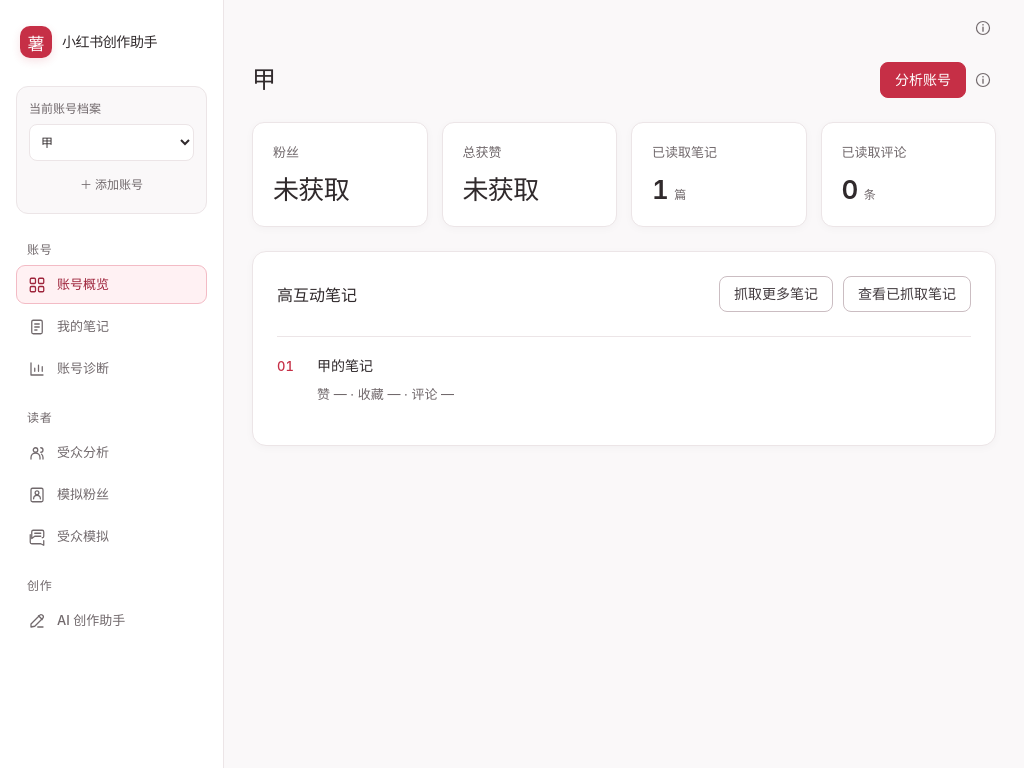
Test: diagnosis history on the public diagnosis page › keeps old history separate when the current execution fails
Check: the text "甲的笔记" is shown, box 317,357 -> 373,374
Click the button "账号诊断" at (112, 368), box 16,349 -> 207,388
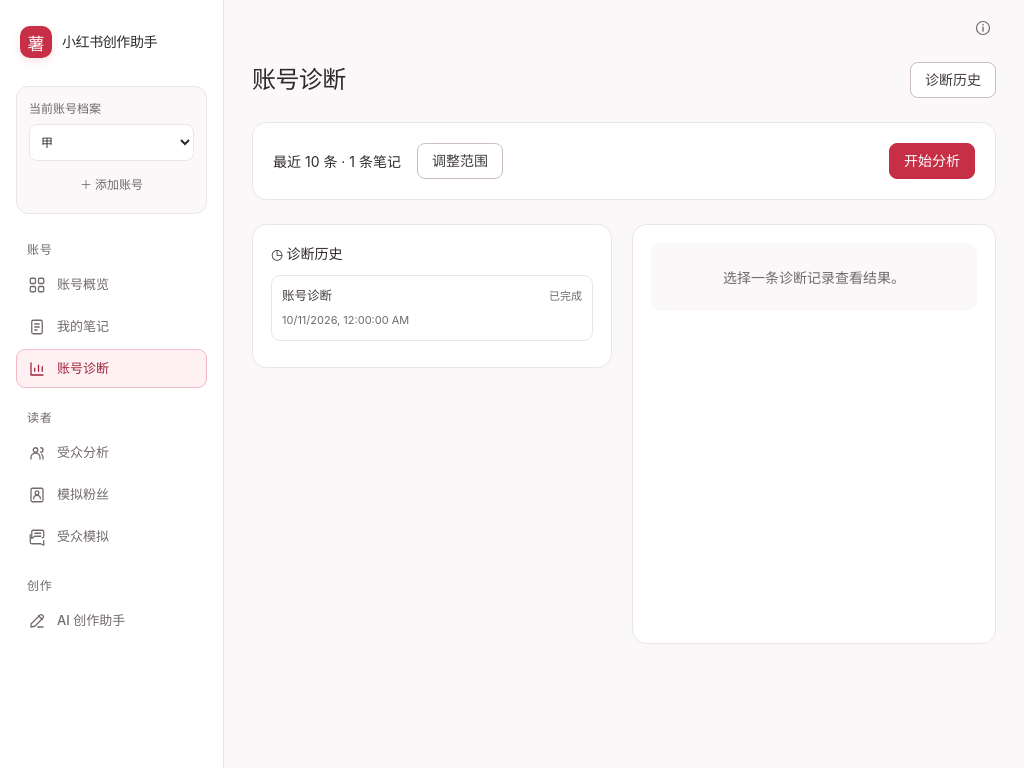
Click the button "账号诊断 已完成 10/11/2026, 12:00:00 AM" at (307, 296), box 271,275 -> 593,341
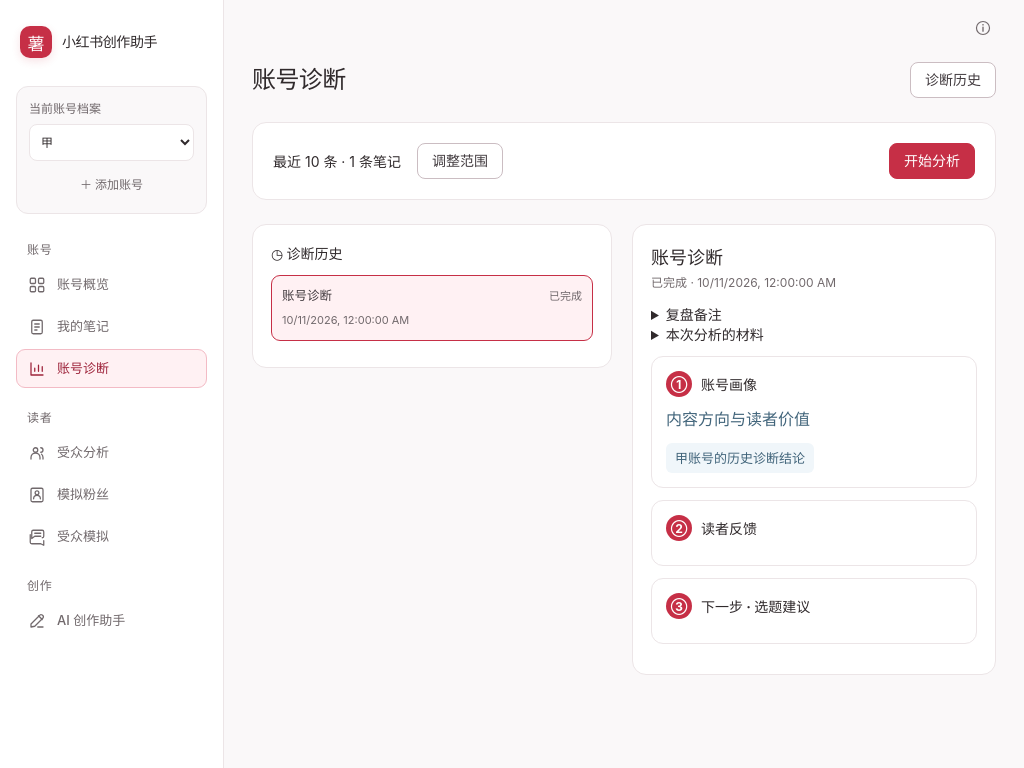
Check: the text "甲账号的历史诊断结论" is shown, box 666,443 -> 814,473
Click the button "开始分析" at (932, 161), box 889,143 -> 975,179
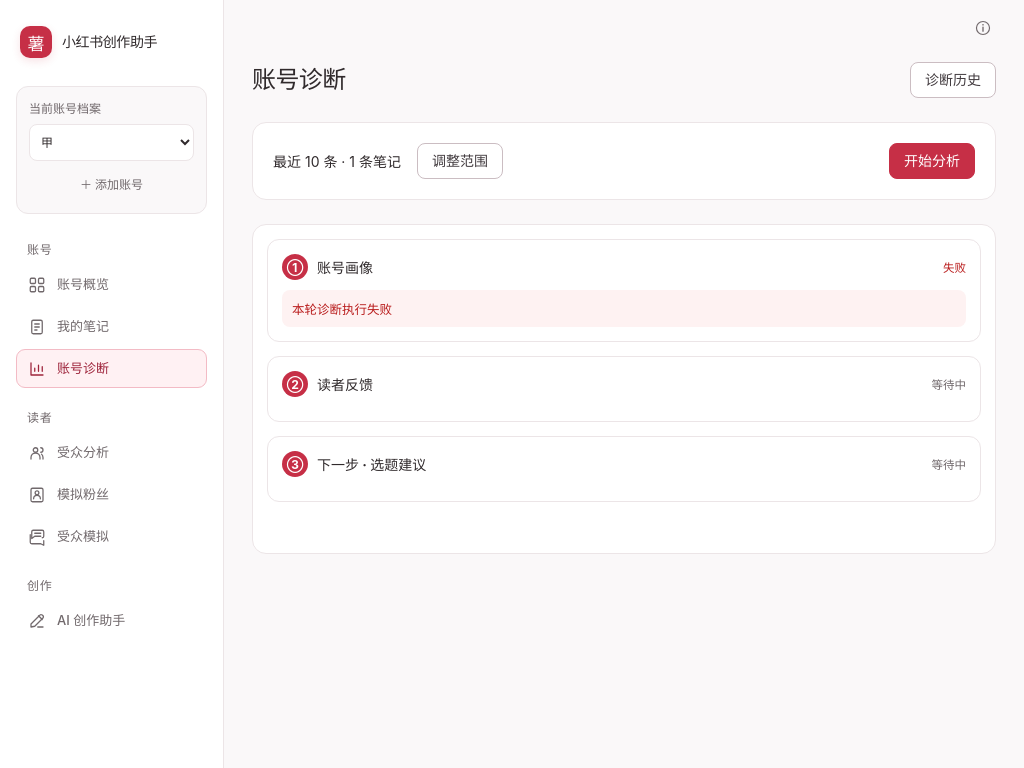
Check: the text "本轮诊断执行失败" is shown, box 282,290 -> 966,327
Check: the text "甲账号的历史诊断结论" is gone
Click the button "诊断历史" at (953, 80), box 910,62 -> 996,98
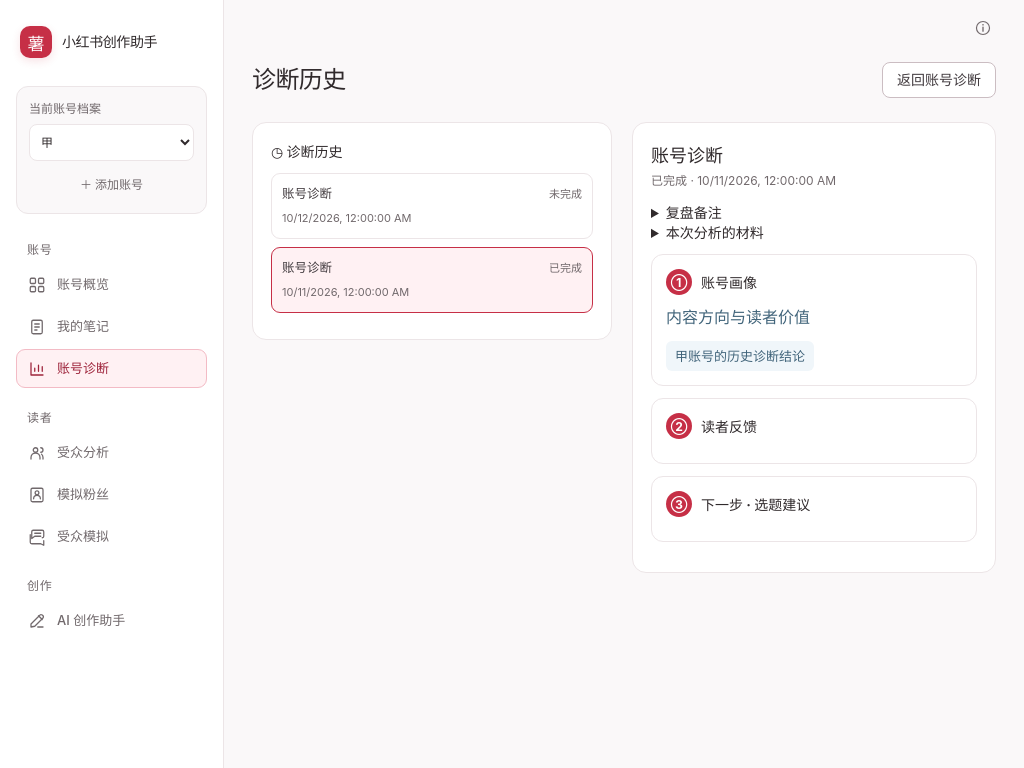
Check: the text "甲账号的历史诊断结论" is shown, box 666,341 -> 814,371
Click the button "账号诊断" at (112, 368), box 16,349 -> 207,388
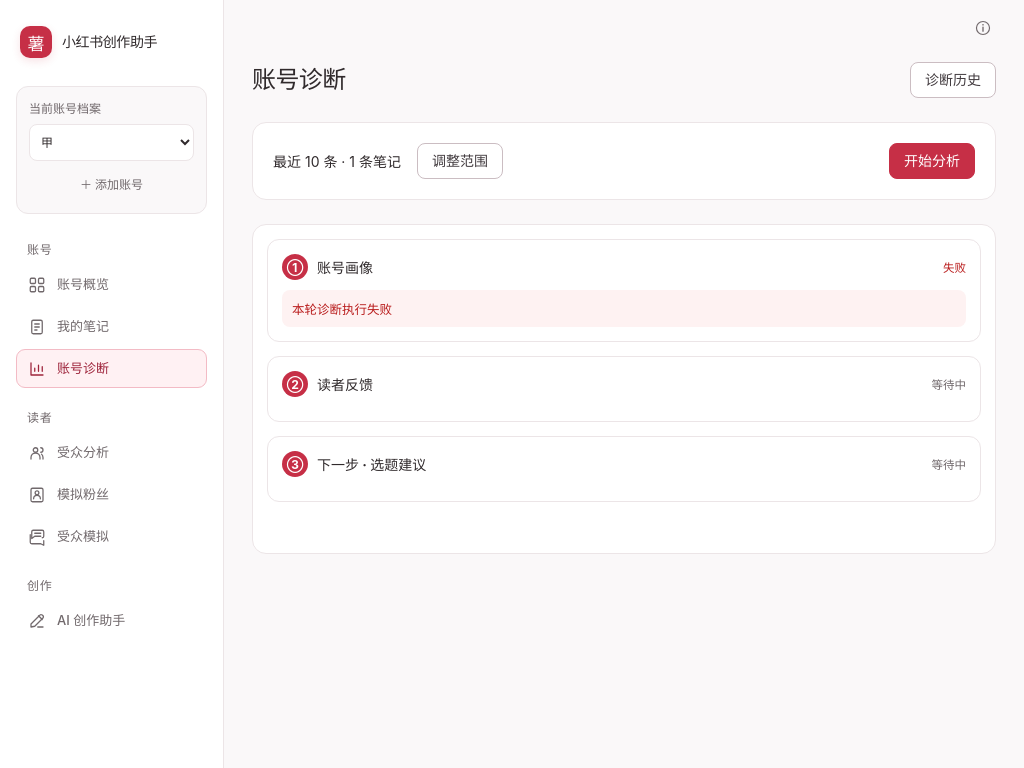
Check: the text "甲账号的历史诊断结论" is gone
